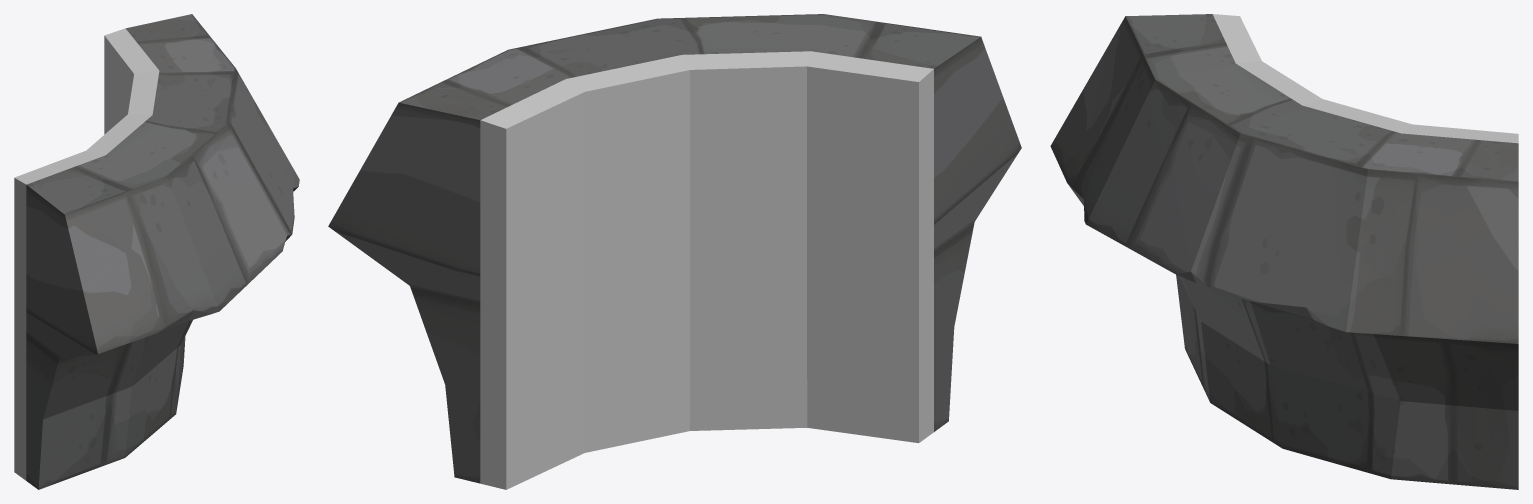
File: SM_Bld_Wall_L_Curve_06.fbx
The picture shows the model from 3 angles, left to right: view 1: azimuth 30°, elevation 25°; view 2: azimuth 150°, elevation 25°; view 3: azimuth 270°, elevation 25°; orthographic projection. The views are drawn at different scales.
Parts seen in each view (by area): view 1: SM_Bld_Wall_L_Curve_06; view 2: SM_Bld_Wall_L_Curve_06; view 3: SM_Bld_Wall_L_Curve_06.
Part boxes in pixels (x1,y1,x2,y2): SM_Bld_Wall_L_Curve_06: [14, 14, 299, 489]; SM_Bld_Wall_L_Curve_06: [328, 14, 1021, 489]; SM_Bld_Wall_L_Curve_06: [1050, 14, 1518, 489].
Size of the model in its own units: 382 by 302 by 382.
